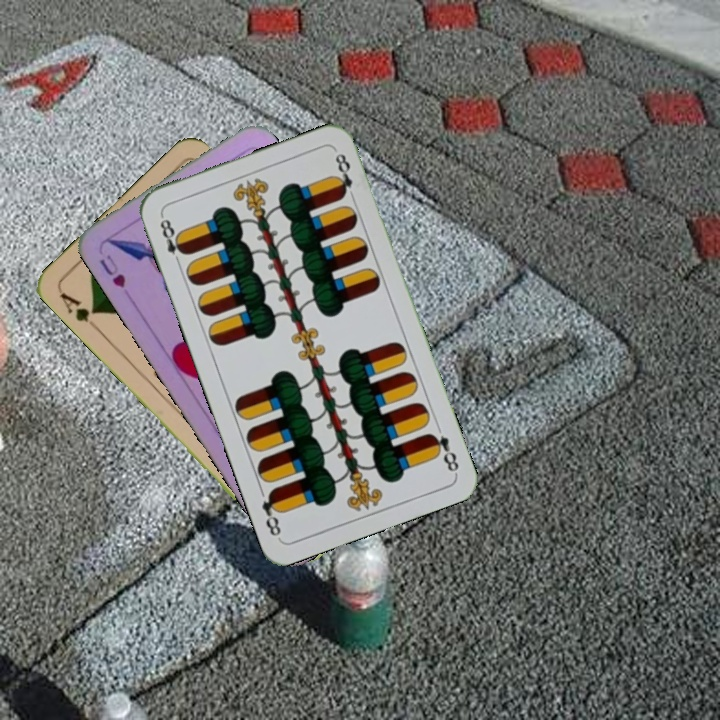E8: (156, 211, 190, 268), (425, 429, 462, 476)
GA: (55, 288, 102, 334)
HU: (95, 251, 129, 291)
